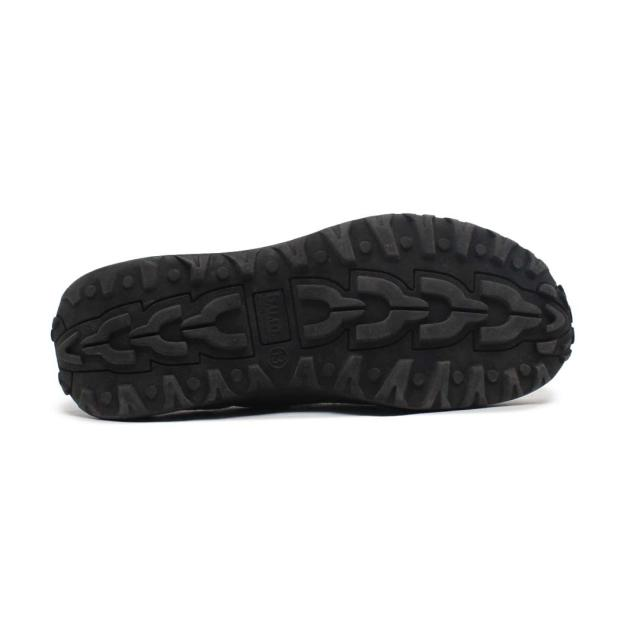outersole: (59, 215, 578, 421)
